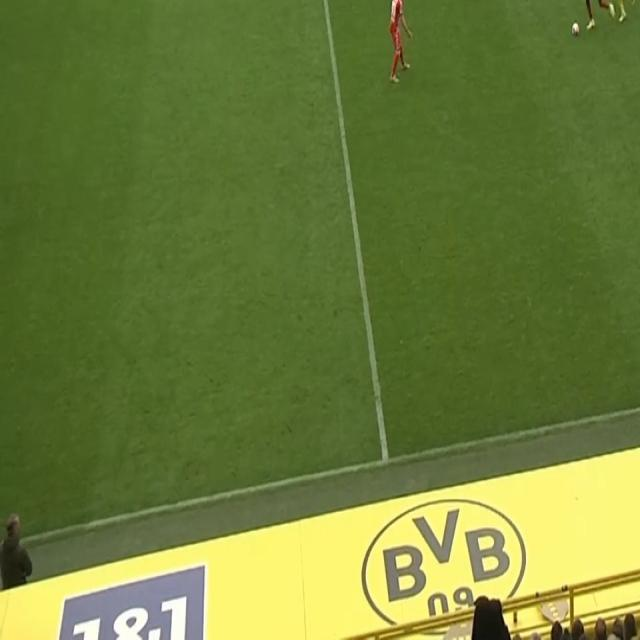ball: (570, 20, 580, 38)
